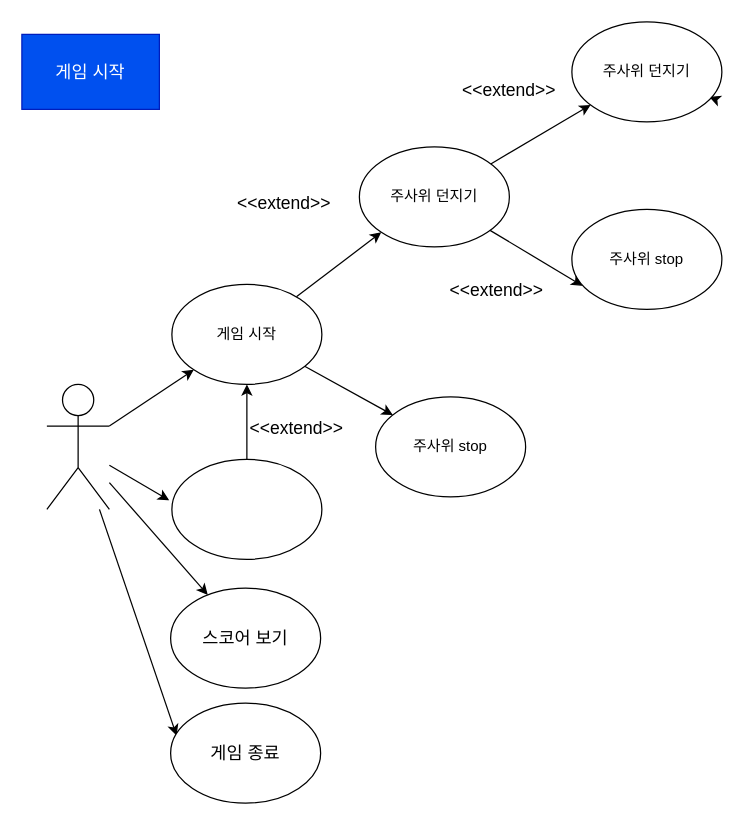
Image size: 744x825. Some labels were removed from this diagram. The shapes that lost their labels are listed below. From the top down, each one's centre as x and y in pixels, then its label:
pixel 77 446: Actor
pixel 246 508: 게임 재시작
